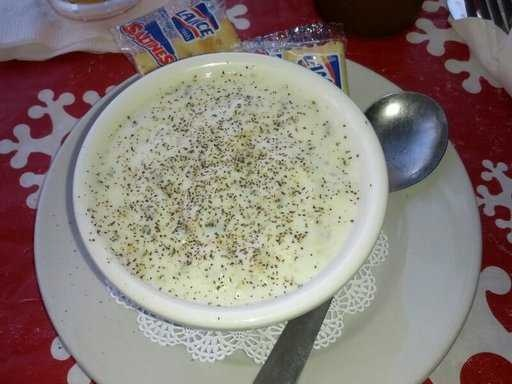soup: (74, 65, 366, 318)
